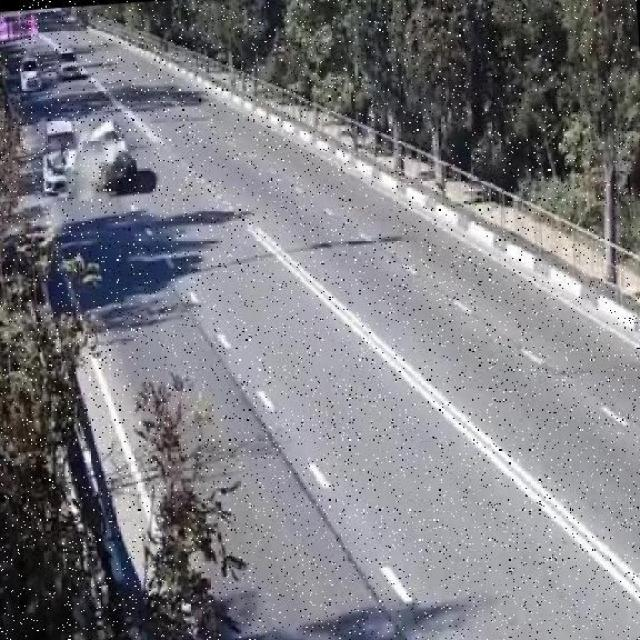accident: (23, 97, 157, 211)
